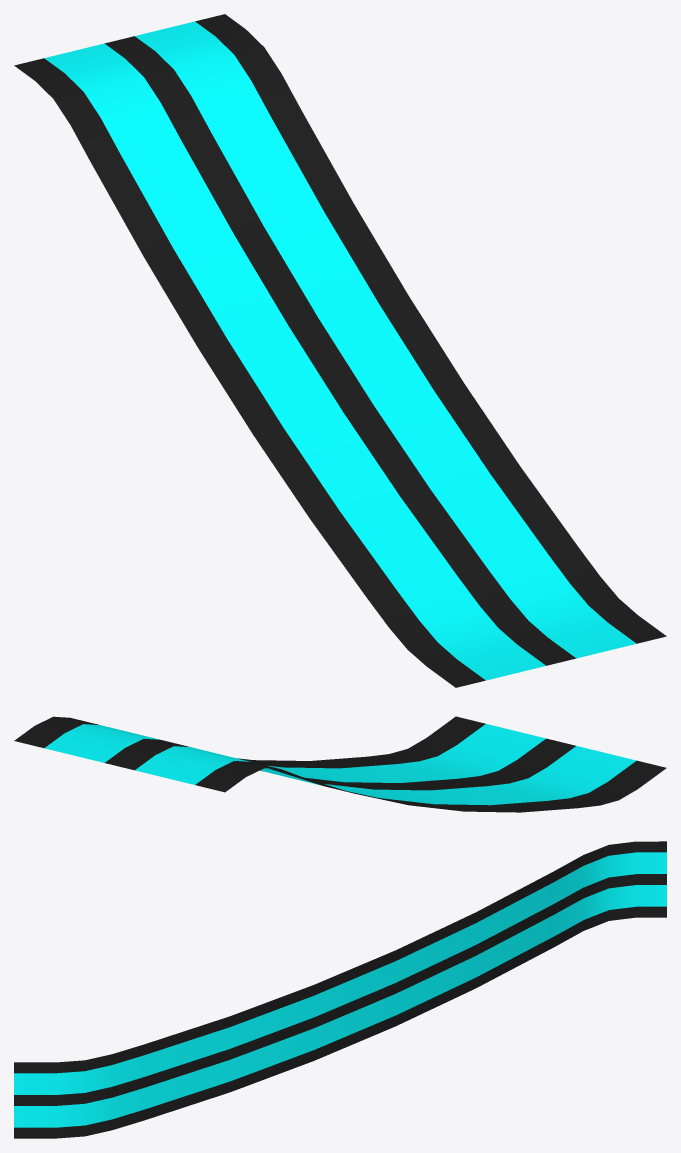
File: RaceTrack_UpFlat25DegreeBent_20m 1.fbx
The picture shows the model from 3 angles, top to bottom: view 1: azimuth 30°, elevation 25°; view 2: azimuth 150°, elevation 25°; view 3: azimuth 270°, elevation 25°; orthographic projection. The views are drawn at different scales.
Visible parts, largest first — view 1: UpFlat25DegreeBent_20m; view 2: UpFlat25DegreeBent_20m; view 3: UpFlat25DegreeBent_20m.
Boxes of the visible parts, box(x1,y1,x2,y2) form: UpFlat25DegreeBent_20m: box(14, 14, 666, 687); UpFlat25DegreeBent_20m: box(14, 716, 666, 812); UpFlat25DegreeBent_20m: box(14, 841, 666, 1138).
Size of the model in its own units: 5 by 6.77 by 18.13.
